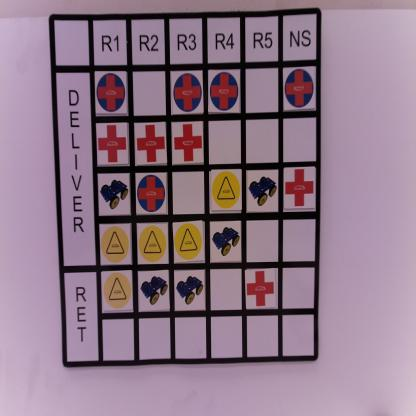OrderBlue: (96, 72, 131, 118), (208, 70, 242, 117), (283, 67, 317, 113), (173, 73, 206, 118), (137, 173, 168, 215)
OrderGurney: (98, 175, 133, 218), (210, 221, 244, 263), (176, 270, 207, 314), (138, 271, 171, 312), (249, 172, 281, 212)
OrderRed: (136, 124, 171, 168), (97, 124, 131, 168), (174, 123, 207, 167), (247, 270, 281, 312), (286, 170, 317, 210)
OrderYellow: (101, 272, 135, 315), (100, 226, 133, 265), (211, 172, 243, 212), (175, 222, 206, 263), (138, 224, 169, 263)
